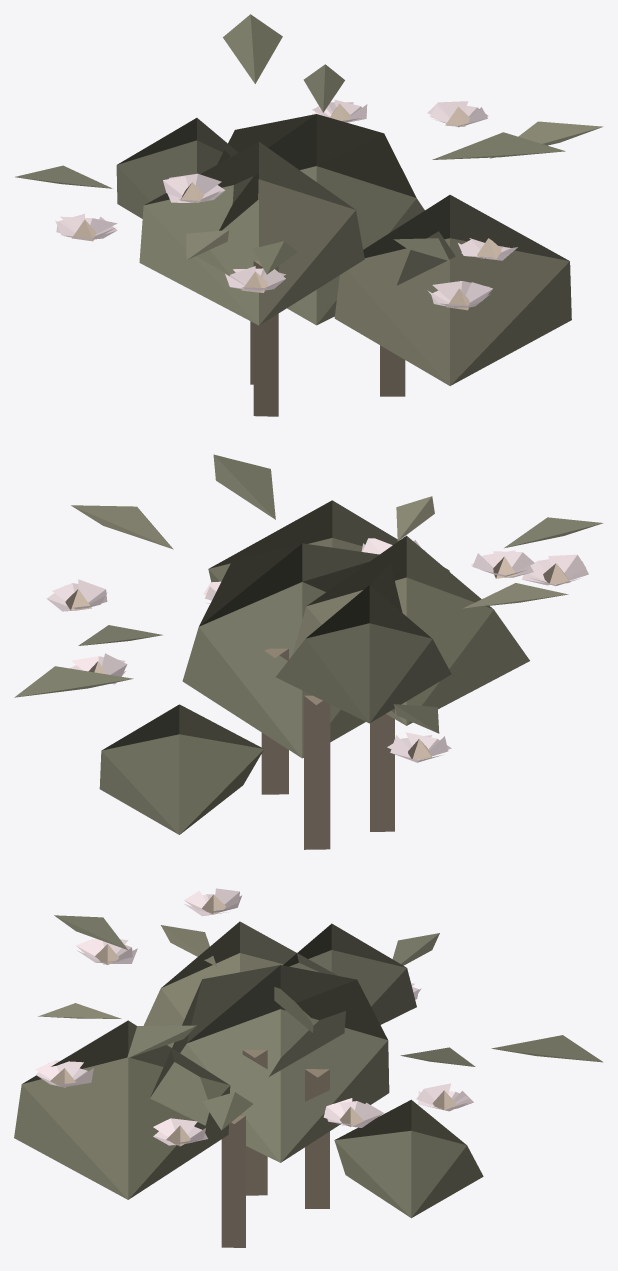
File: guan.zhizi@flowering__winter.glb
3 renders of one model, top to bottom at view 1: azimuth 30°, elevation 25°; view 2: azimuth 150°, elevation 25°; view 3: azimuth 270°, elevation 25°, orthographic. The views are drawn at different scales.
Visible parts, largest first — view 1: guan.zhizi@flowering__winter; view 2: guan.zhizi@flowering__winter; view 3: guan.zhizi@flowering__winter.
Boxes of the visible parts, box(x1,y1,x2,y2) form: guan.zhizi@flowering__winter: box(15, 14, 603, 416); guan.zhizi@flowering__winter: box(14, 454, 603, 849); guan.zhizi@flowering__winter: box(14, 888, 603, 1247).
Bounding box in the file's own units: 2.51 × 1.46 × 2.89.
